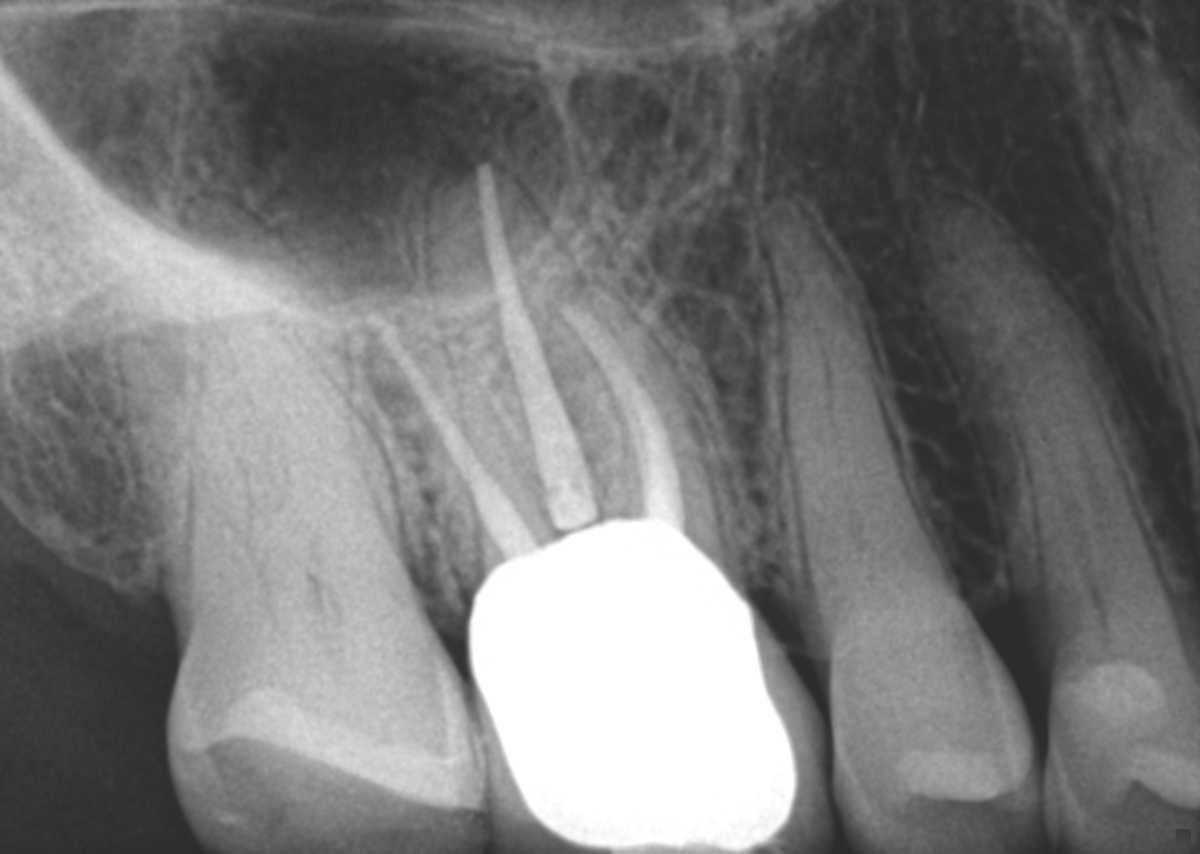Distal Root: (351, 290, 556, 617), (115, 332, 266, 586)
Main Canal: (771, 215, 891, 616)
Main Root: (755, 199, 957, 634), (965, 249, 1176, 660), (1105, 14, 1200, 466)
Mesial Root: (233, 316, 403, 589), (553, 289, 723, 548)
Palatal Root: (908, 194, 1190, 638), (424, 153, 697, 582), (176, 190, 409, 635)
Root Canal Filling: (474, 158, 601, 531), (371, 316, 535, 565)
